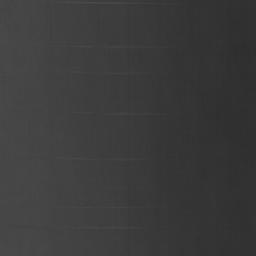Waist folding: (56, 154, 143, 162), (61, 201, 147, 209), (56, 1, 174, 6), (64, 45, 158, 51), (41, 226, 141, 231), (72, 71, 149, 76), (104, 112, 164, 117)
